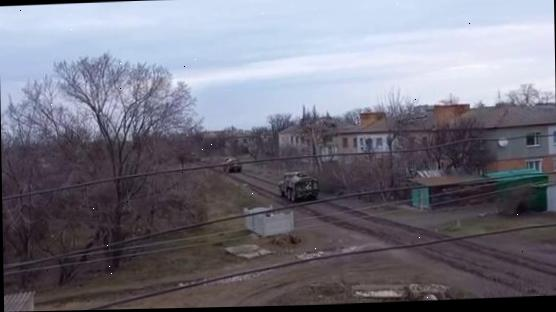truck: (276, 168, 318, 202), (221, 155, 241, 173)
